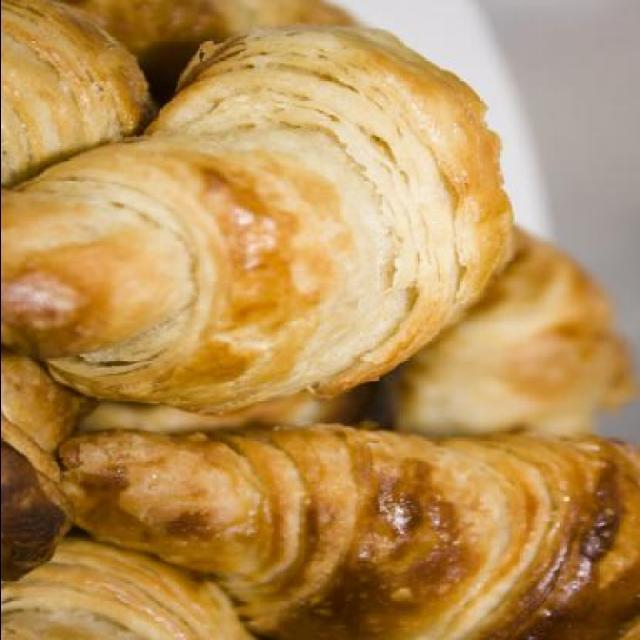Croissant: (2, 0, 640, 638), (2, 20, 508, 418)
